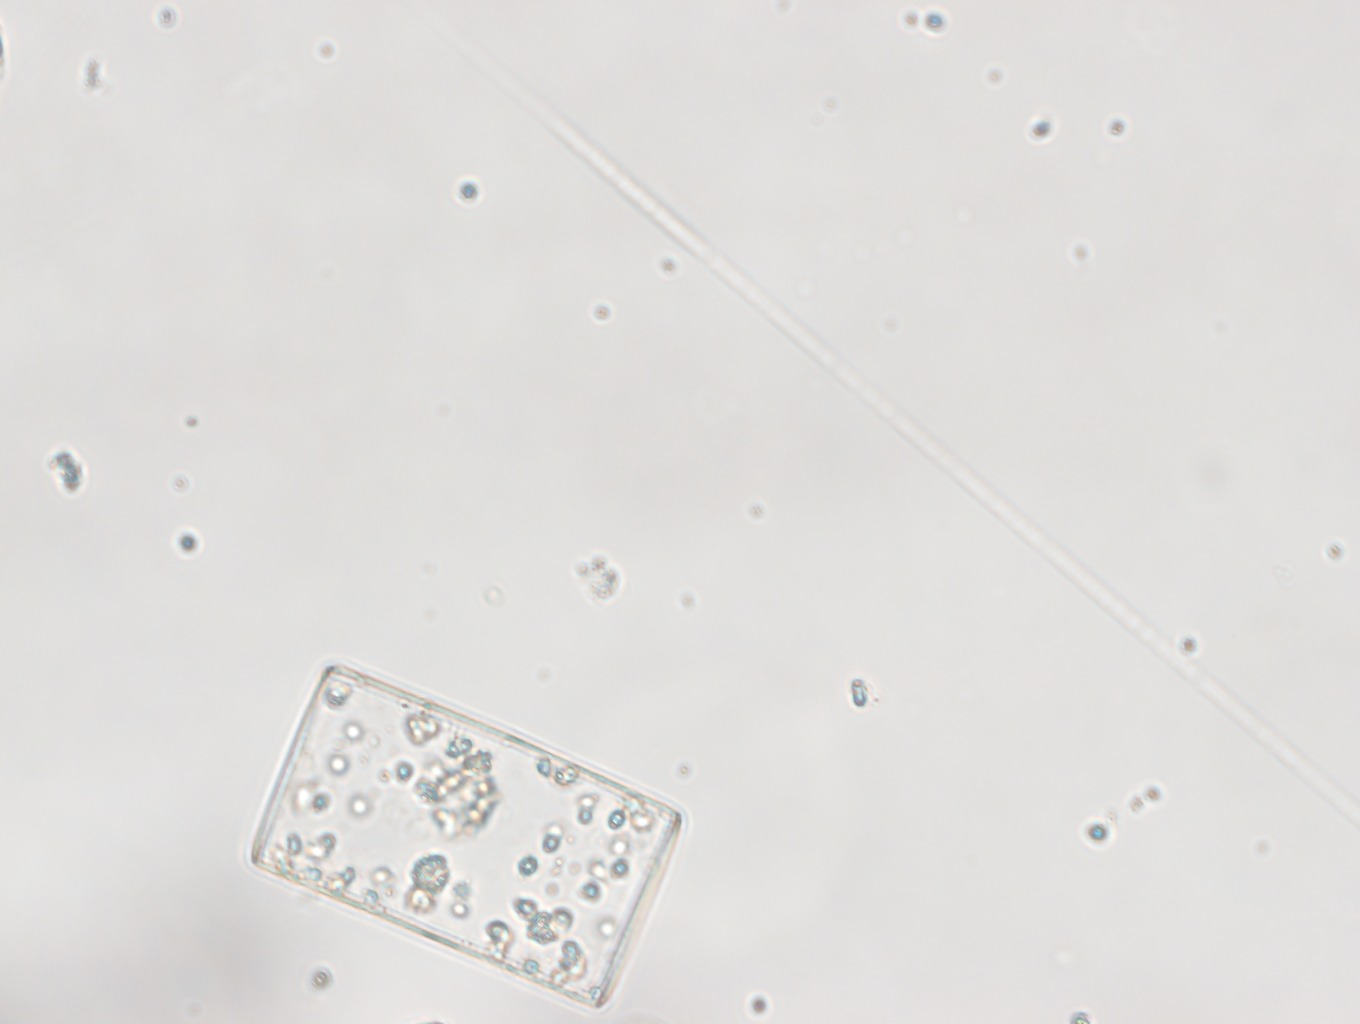guinardia flaccida: (249, 662, 683, 1009)
